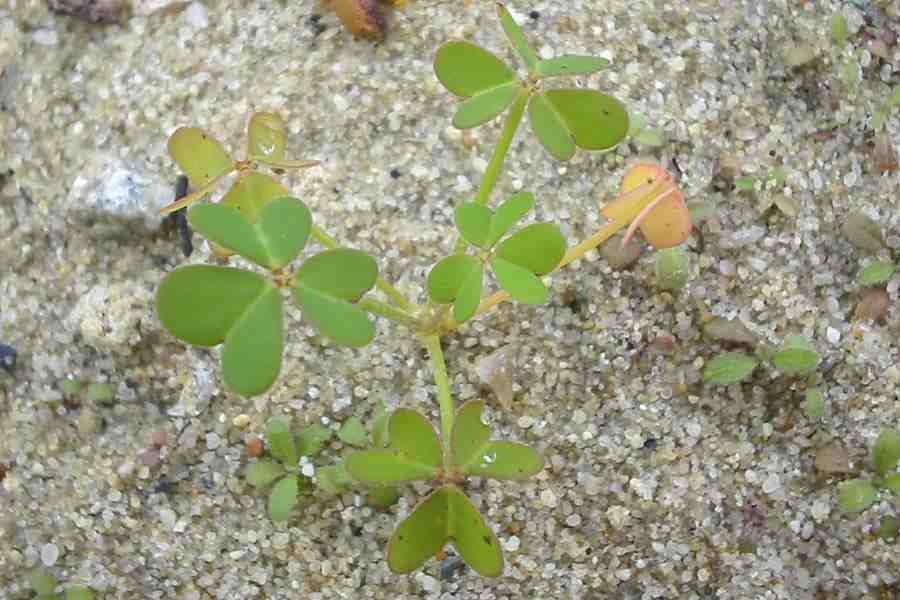oxalis: (137, 39, 647, 570)
